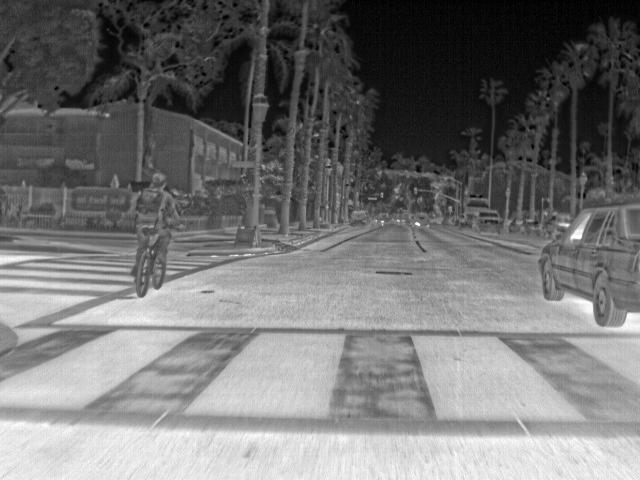car: (540, 201, 640, 330), (473, 210, 503, 232), (350, 207, 372, 227)
person: (128, 174, 182, 278)
